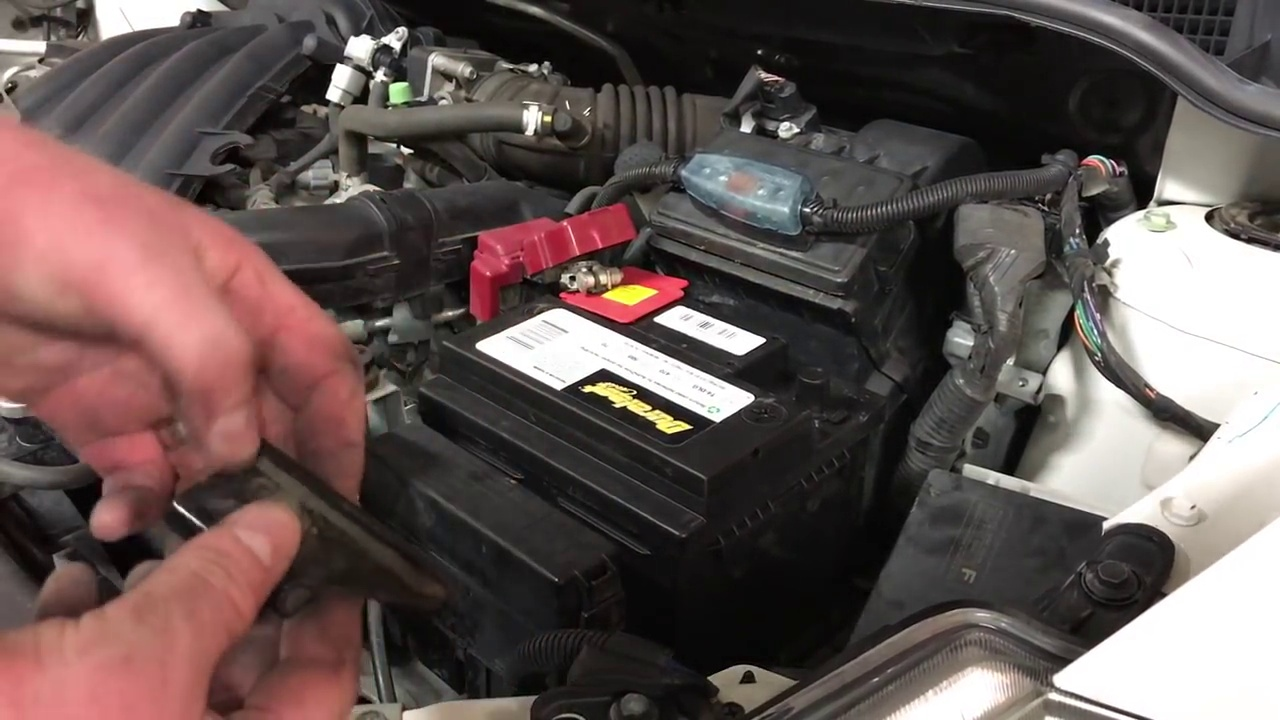battery: (434, 238, 854, 481)
pos_connected: (450, 187, 667, 348)
